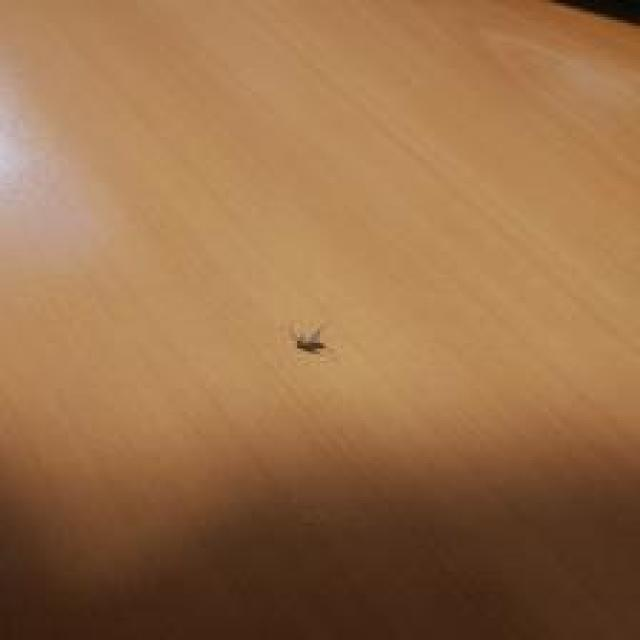Aedes albopictus: (293, 326, 327, 354)
